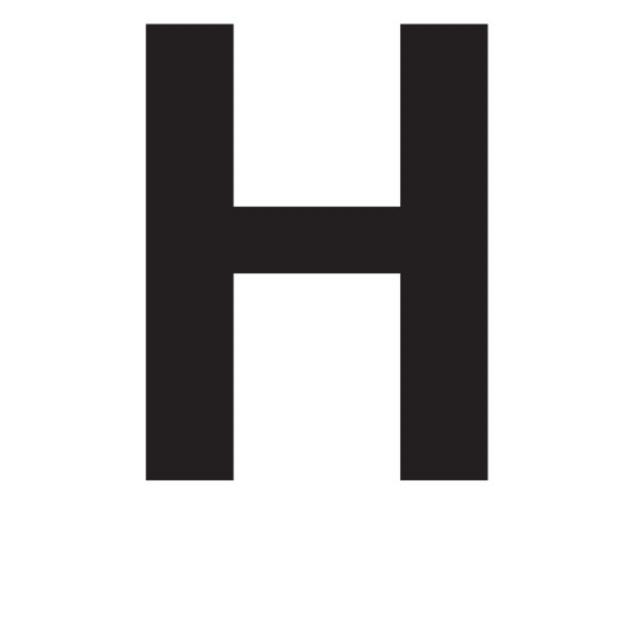H: (85, 9, 577, 550)
